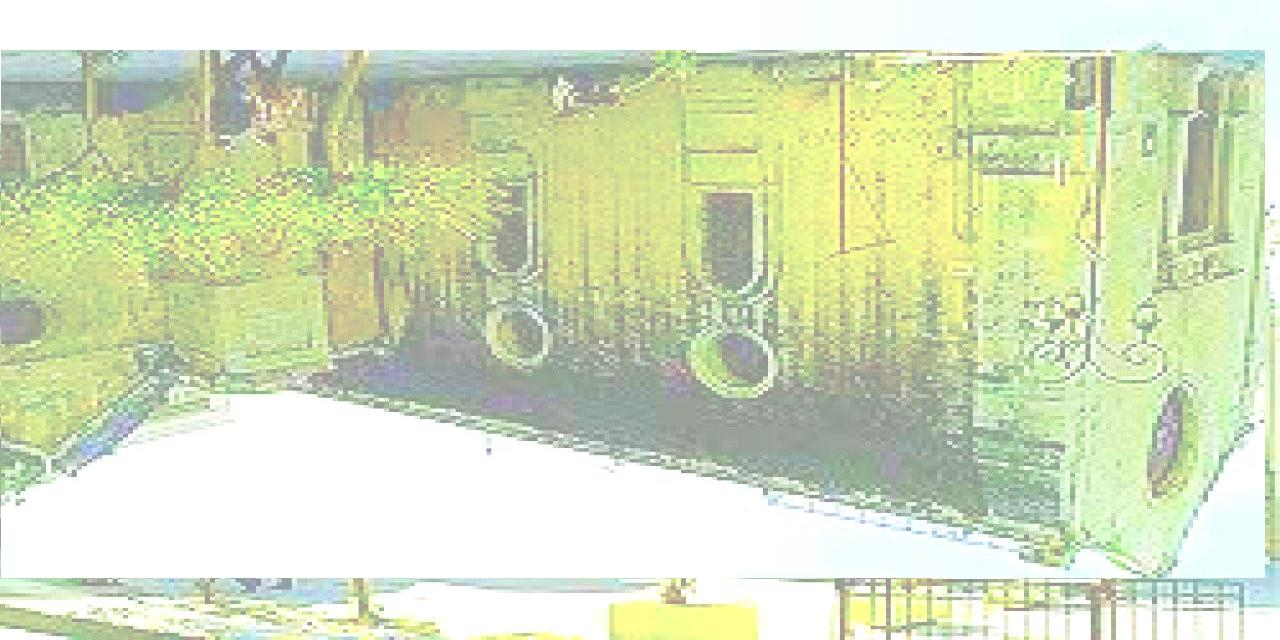Agia Aikaterini: (2, 51, 1266, 579)
